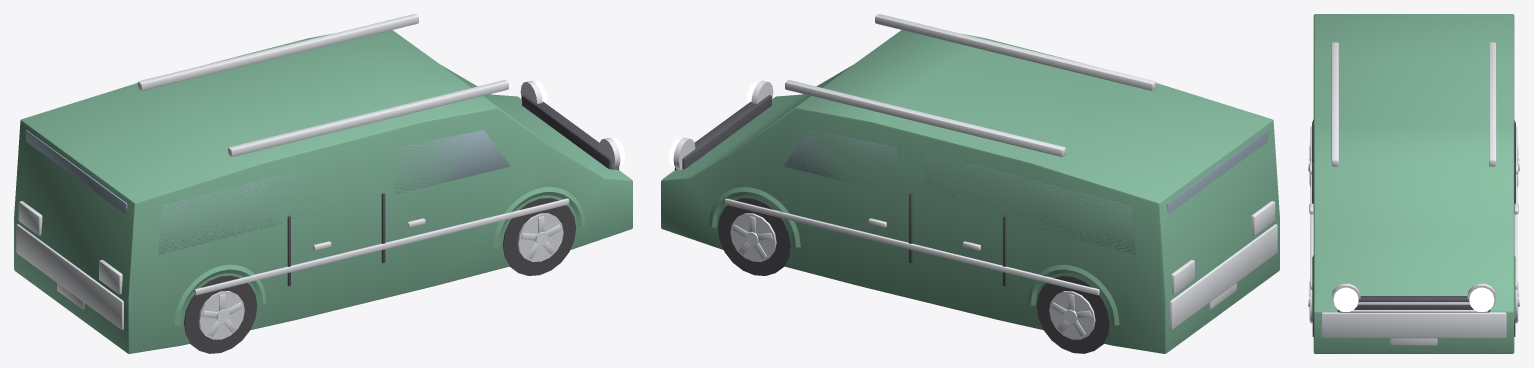
The model's file is th37_kombi.glb.
3 views of the same model, side by side, from view 1: azimuth 30°, elevation 25°; view 2: azimuth 150°, elevation 25°; view 3: azimuth 270°, elevation 25° (orthographic). The views are drawn at different scales.
Parts seen in each view (by area): view 1: Karosse, Seitenglas2, Seitenglas, Cube.054, Cube.063, Cube.062, Cube.020, Cylinder, Cylinder.007, Cube.050, Heckscheibe, Cylinder.008 (+5 smaller); view 2: Karosse, Seitenglas.001, Cube.054, Cube.062, Cube.063, Cube.045, Cylinder.014, Cylinder.021, Seitenglas2.001, Cube.050, Heckscheibe, Cylinder.024 (+5 smaller); view 3: Karosse, Cube.055, Cube.050, Cube.062, Cube.063, Cylinder.028, Cylinder.030, Cube.053, Cube.052, Cube.020, Cube.045, Cube.060 (+2 smaller).
Boxes of the visible parts, <box> form: Karosse: <box>14,30,632,353</box>; Seitenglas2: <box>394,130,510,194</box>; Seitenglas: <box>158,157,348,254</box>; Cube.054: <box>16,224,123,329</box>; Cube.063: <box>137,14,418,90</box>; Cube.062: <box>228,80,508,156</box>; Cube.020: <box>194,198,569,295</box>; Cylinder: <box>184,275,257,353</box>; Cylinder.007: <box>503,197,576,275</box>; Cube.050: <box>522,95,618,169</box>; Heckscheibe: <box>25,130,127,214</box>; Cylinder.008: <box>517,213,563,261</box>; Karosse: <box>661,30,1279,353</box>; Seitenglas.001: <box>922,152,1135,254</box>; Cube.054: <box>1170,224,1277,329</box>; Cube.062: <box>875,14,1156,90</box>; Cube.063: <box>785,80,1065,156</box>; Cube.045: <box>725,198,1099,295</box>; Cylinder.014: <box>1036,275,1109,353</box>; Cylinder.021: <box>718,197,790,275</box>; Seitenglas2.001: <box>783,130,898,187</box>; Cube.050: <box>675,95,771,169</box>; Heckscheibe: <box>1166,130,1268,214</box>; Cylinder.024: <box>730,213,776,261</box>; Karosse: <box>1313,14,1514,353</box>; Cube.055: <box>1321,312,1506,338</box>; Cube.050: <box>1337,296,1490,312</box>; Cube.062: <box>1331,42,1338,166</box>; Cube.063: <box>1489,42,1496,166</box>; Cylinder.028: <box>1333,287,1358,311</box>; Cylinder.030: <box>1469,287,1494,311</box>; Cube.053: <box>1357,302,1470,305</box>; Cube.052: <box>1339,310,1488,312</box>; Cube.020: <box>1310,126,1313,289</box>; Cube.045: <box>1514,126,1517,289</box>; Cube.060: <box>1390,338,1437,345</box>.
Bounding box in the file's own units: 4.77 × 1.69 × 1.96.
